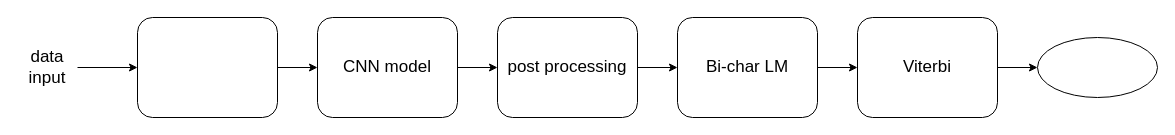
Image size: 1175x135. Some labels were removed from this diagram. Here are the shapes that lost their labels. From the top down, the box of each, then its label:
(136, 16, 278, 118): data preprocessor
(1036, 36, 1158, 98): output result
